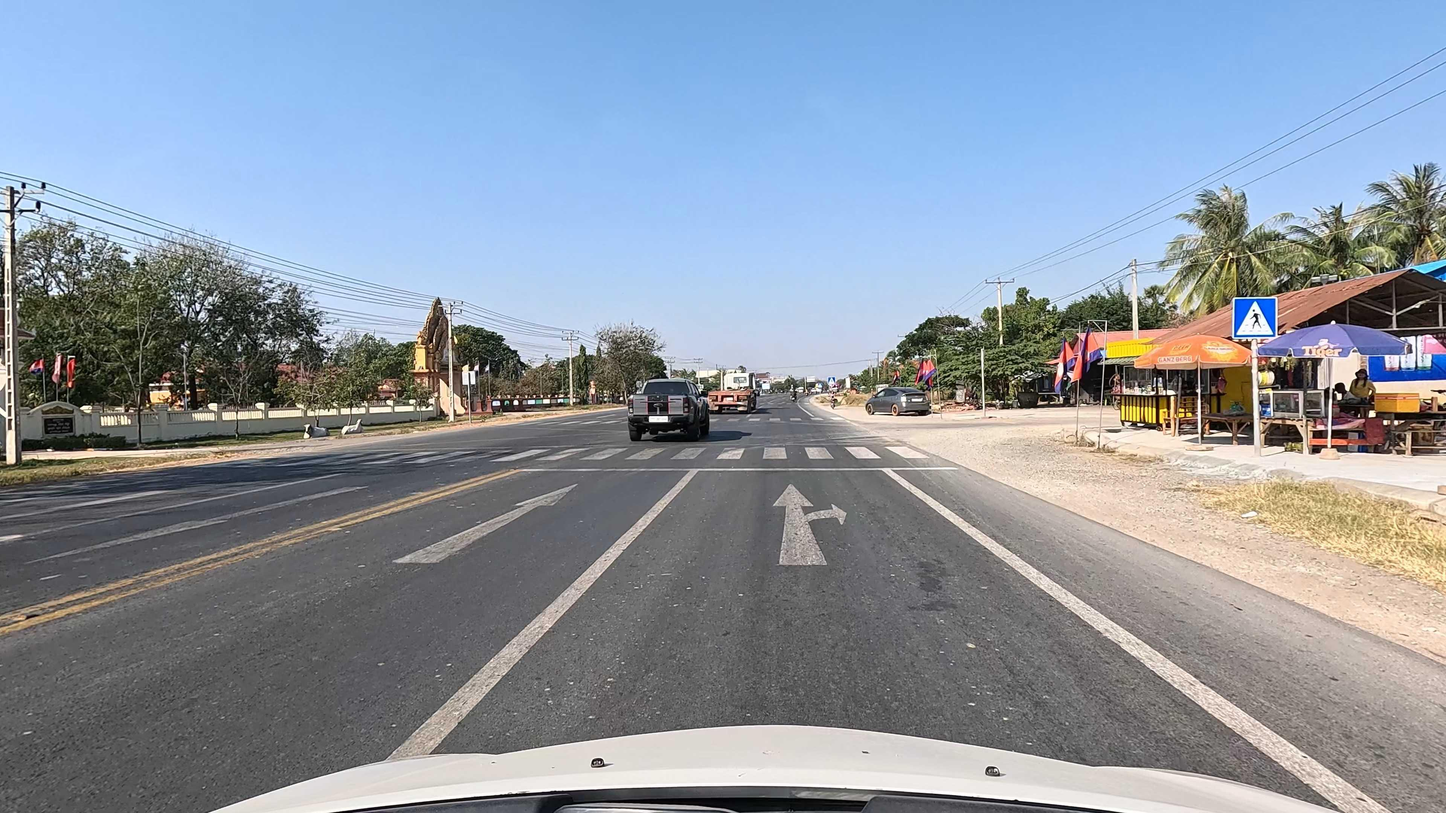pedestrian_crossing: (1232, 297, 1279, 340), (828, 377, 836, 387)
